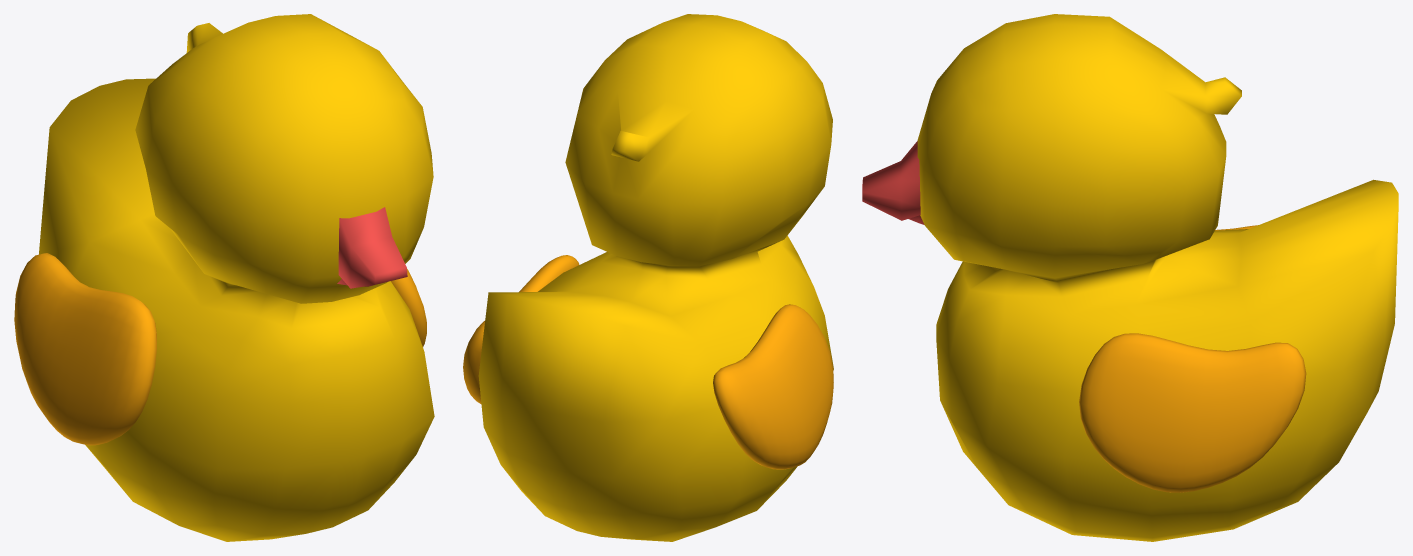
Rendered from RubberDuck_2.1.glb.
3 views of the same model, side by side, from view 1: azimuth 30°, elevation 25°; view 2: azimuth 150°, elevation 25°; view 3: azimuth 270°, elevation 25° (orthographic). The views are drawn at different scales.
Parts seen in each view (by area): view 1: Duck; view 2: Duck; view 3: Duck.
Boxes of the visible parts, x1,y1,x2,y2 form: Duck: [14, 14, 434, 541]; Duck: [463, 14, 833, 541]; Duck: [862, 14, 1398, 541].
Bounding box in the file's own units: 3.88 × 5.47 × 5.42.
